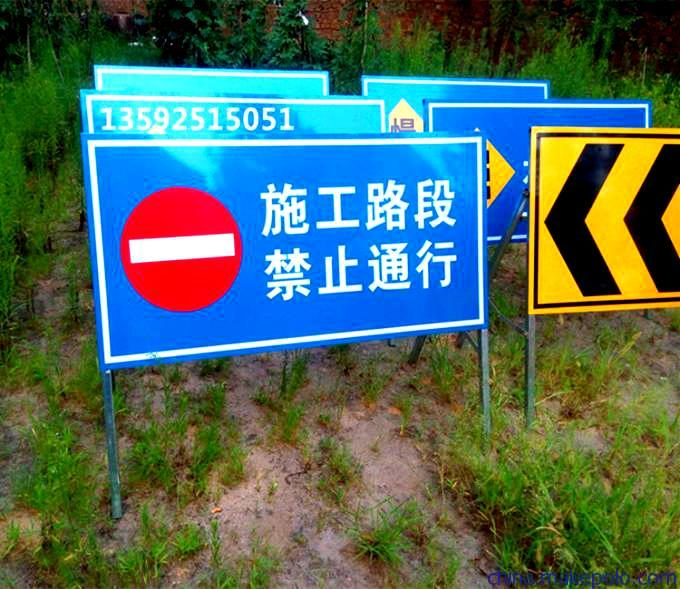sign: (91, 137, 483, 350)
